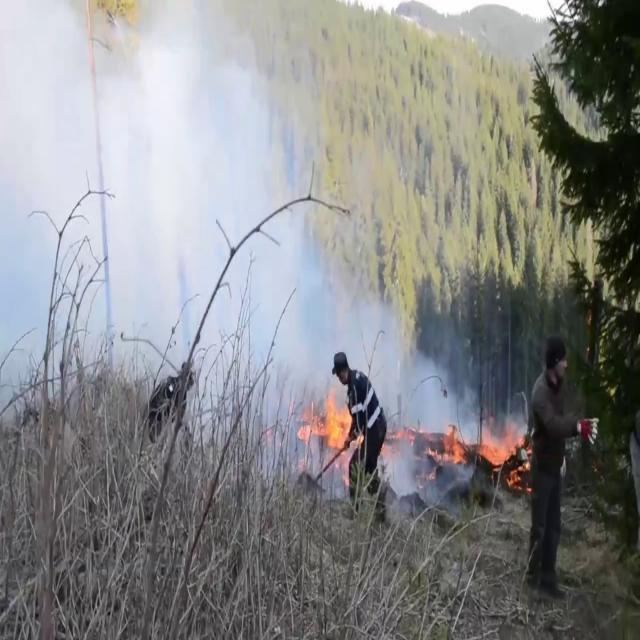Fire: (312, 382, 356, 458), (476, 424, 528, 484)
Smoke: (1, 1, 554, 471)
